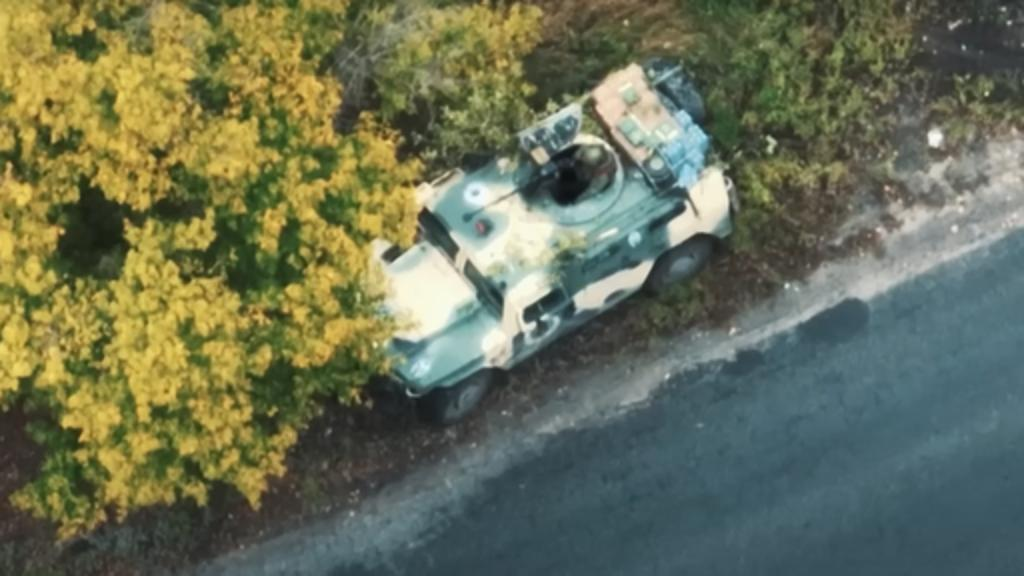CAR: (310, 48, 738, 422)
